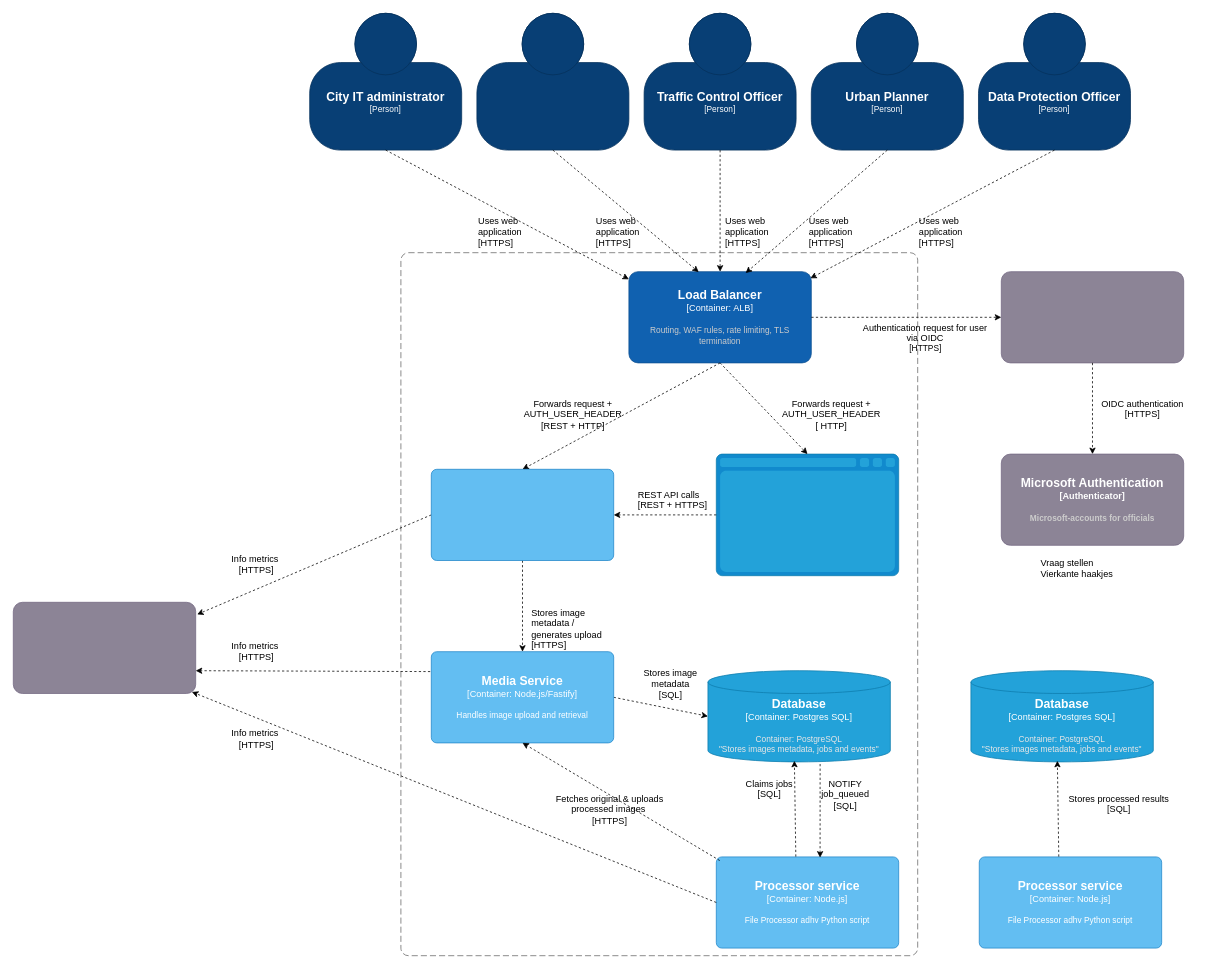
Some shapes in this 1205 by 969 pixel diagram are drawn without their labels. Here are the shapes that lost their labels. From the top down, the box of each, then its label:
(476, 13, 629, 150): Police [Person]
(1001, 271, 1184, 363): Keycloak [Keycloak 24 · OIDC / OAuth2] Returns JWT-token
(431, 469, 614, 560): API Service [Container: Node.js/Fastify] Backend
(716, 453, 899, 576): Frontend [Container: Vue 3 SPA] Browser
(400, 252, 918, 956): PXLCensor [Software System]
(13, 602, 196, 694): Datadog [Software System] Analysing tool
